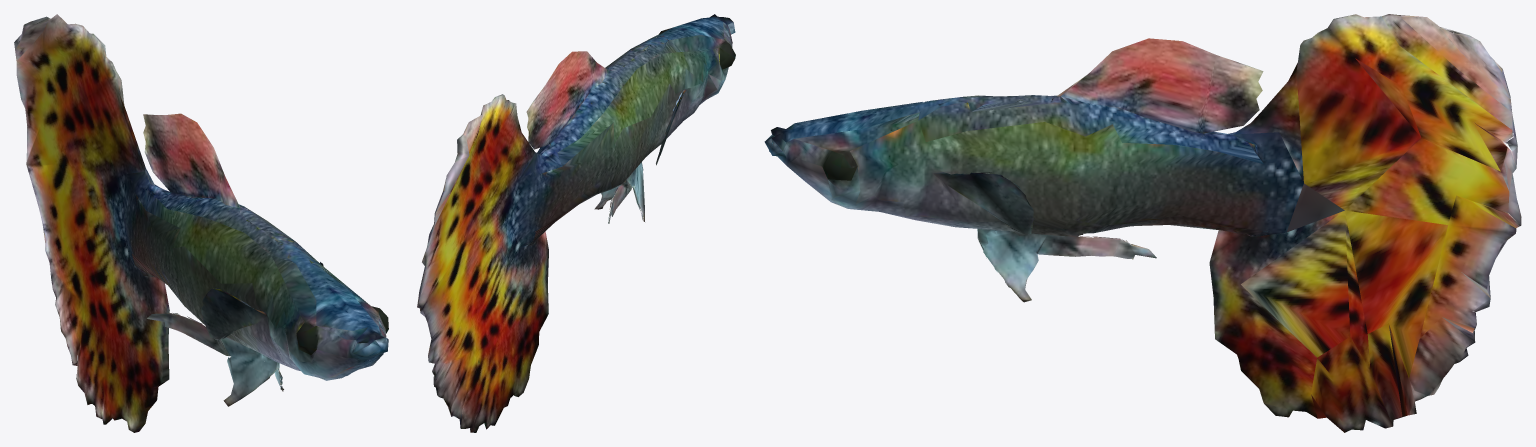
The model's file is guppy.lo.glb.
3 renders of one model, left to right at view 1: azimuth 30°, elevation 25°; view 2: azimuth 150°, elevation 25°; view 3: azimuth 270°, elevation 25°, orthographic. The views are drawn at different scales.
Parts seen in each view (by area): view 1: geometry_0.001; view 2: geometry_0.001; view 3: geometry_0.001.
Boxes of the visible parts, x1,y1,x2,y2 form: geometry_0.001: (14, 14, 388, 432); geometry_0.001: (417, 14, 735, 432); geometry_0.001: (764, 14, 1521, 432).
Bounding box in the file's own units: 0.00585 × 0.0201 × 0.0332.
2 materials, 2 textured.
